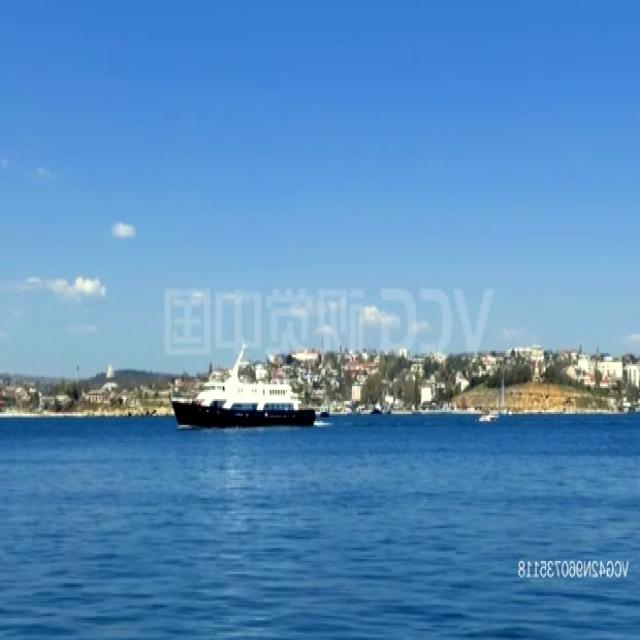passenger ship: (173, 366, 315, 426)
